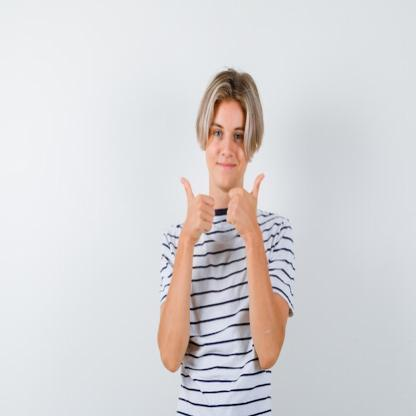thumb_up: (225, 166, 267, 235), (175, 171, 218, 238)
